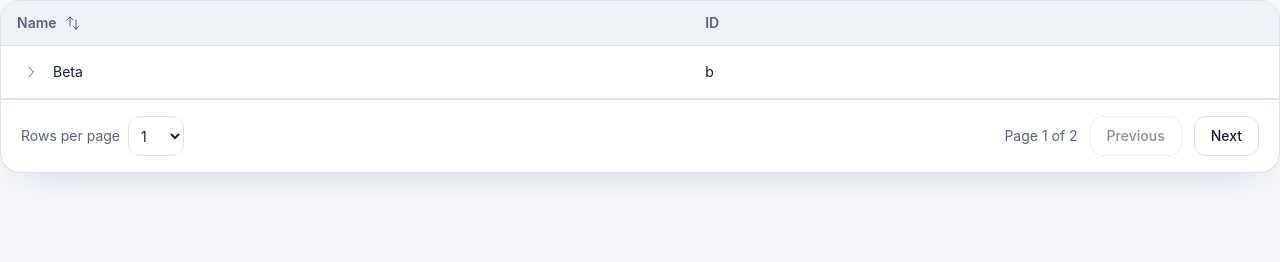
Test: DataTable expansion › keeps expansion with RowId through sorting and parent-only pagination
Click the button named "Expand row" at [31, 72], box [17,58,45,86]
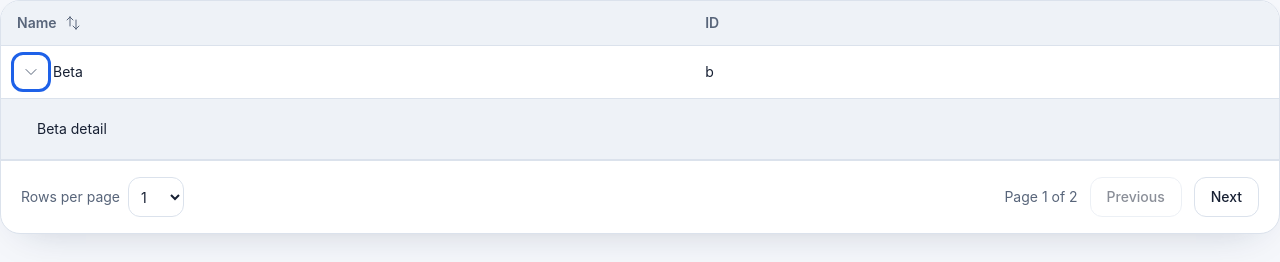
Expected: the text "Page 1 of 2" is shown, [1004,187,1078,207]
Expected: the text "Beta detail" is shown, [37,120,107,137]
Click the button "Name" at [37, 22], box [17,13,673,33]
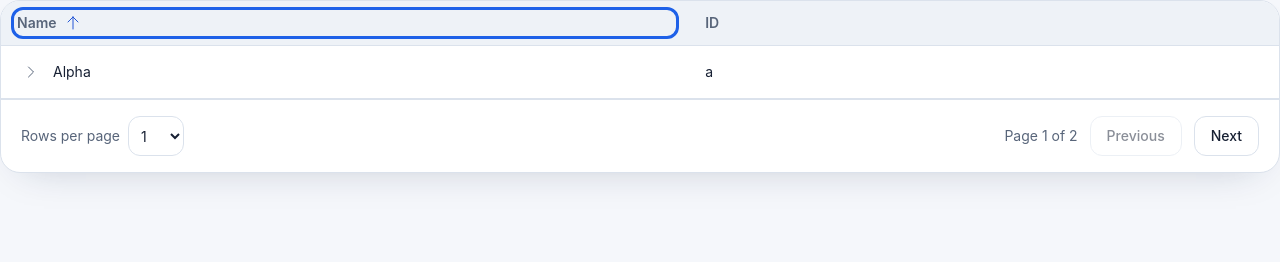
Expected: the text "Beta detail" is gone
Expected: the text "Alpha" is shown, [53,63,91,80]
Click the button with aria-label "Next page" at [1226, 136], box [1194,116,1259,156]
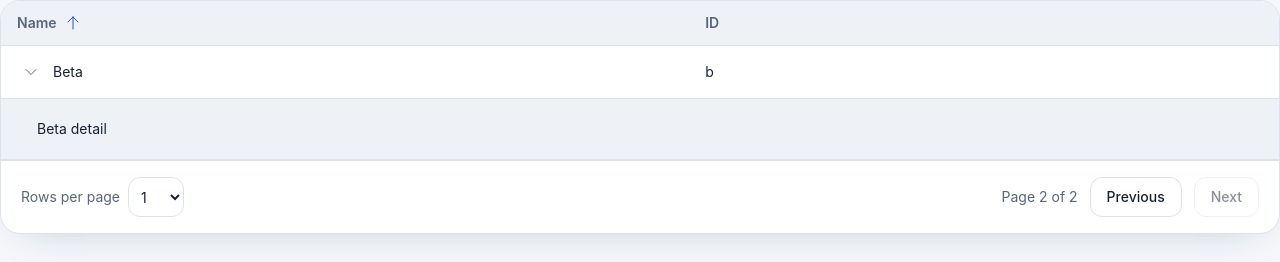
Expected: the text "Beta detail" is shown, [37,120,107,137]
Expected: the button named "Collapse row" is expanded, [17,58,45,86]
